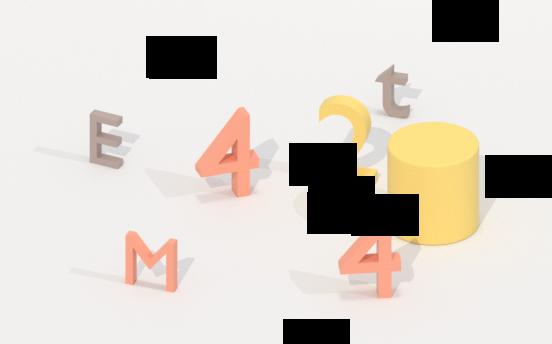2: (315, 90, 380, 191)
E-hoa: (86, 108, 130, 171)
M-hoa: (121, 228, 183, 296)
b: (334, 204, 414, 301), (194, 105, 262, 199)
tru: (386, 118, 485, 246), (376, 62, 412, 121)
